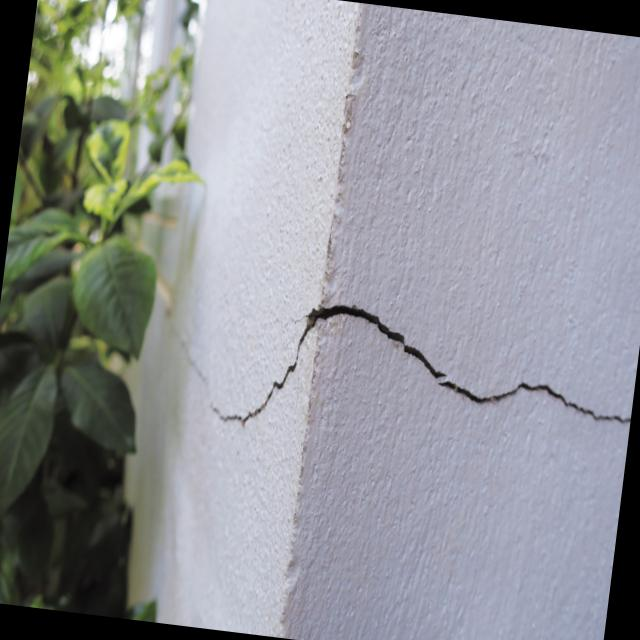crack: (307, 300, 640, 428), (157, 286, 316, 438)
